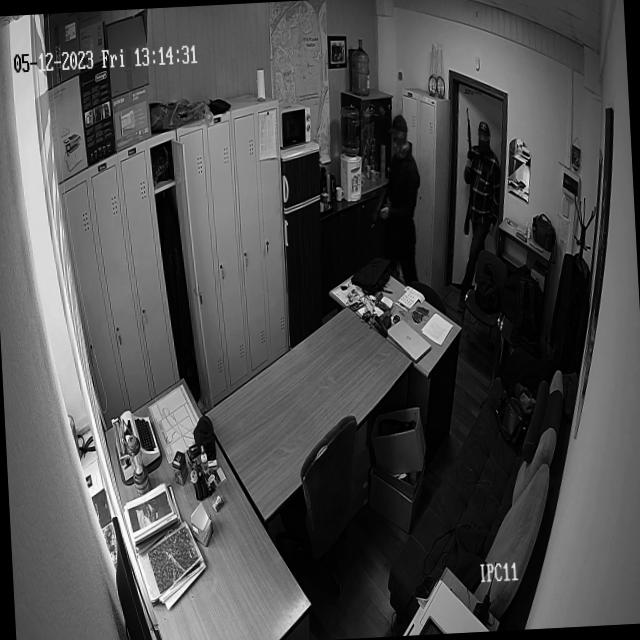gun: (369, 186, 392, 232), (464, 107, 476, 177)
person with a gun: (379, 112, 422, 284), (466, 122, 500, 285)
